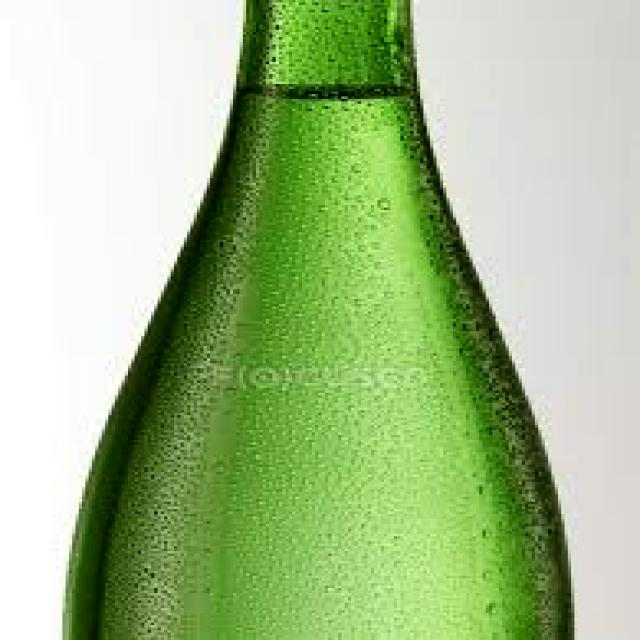Glass: (52, 0, 583, 640)
